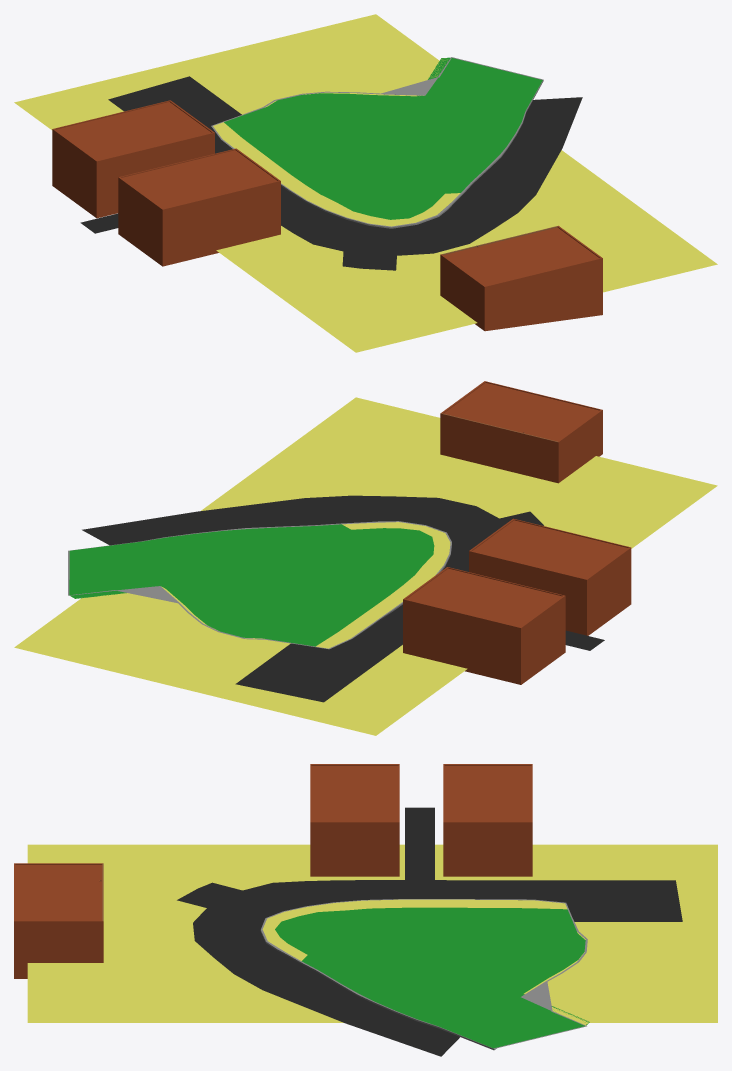
The model's file is map.glb.
The picture shows the model from 3 angles, top to bottom: view 1: azimuth 30°, elevation 25°; view 2: azimuth 150°, elevation 25°; view 3: azimuth 270°, elevation 25°; orthographic projection.
Parts seen in each view (by area): view 1: Floor, Cylinder, Cylinder.001, Cube.002, Cube, Cube.001; view 2: Floor, Cylinder, Cylinder.001, Cube.001, Cube, Cube.002; view 3: Floor, Cylinder, Cylinder.001, Cube.001, Cube.002, Cube.
Part boxes in pixels (x1=…): Floor: x1=14, y1=14, x2=717, y2=352; Cylinder: x1=211, y1=57, x2=543, y2=228; Cylinder.001: x1=80, y1=76, x2=582, y2=270; Cube.002: x1=118, y1=148, x2=280, y2=266; Cube: x1=440, y1=225, x2=602, y2=331; Cube.001: x1=52, y1=100, x2=214, y2=218; Floor: x1=14, y1=397, x2=717, y2=735; Cylinder: x1=68, y1=521, x2=451, y2=649; Cylinder.001: x1=82, y1=495, x2=604, y2=702; Cube.001: x1=403, y1=567, x2=565, y2=684; Cube: x1=440, y1=381, x2=602, y2=483; Cube.002: x1=469, y1=518, x2=631, y2=635; Floor: x1=27, y1=844, x2=717, y2=1022; Cylinder: x1=260, y1=899, x2=589, y2=1050; Cylinder.001: x1=177, y1=807, x2=682, y2=1056; Cube.001: x1=443, y1=764, x2=532, y2=876; Cube.002: x1=310, y1=764, x2=399, y2=876; Cube: x1=14, y1=863, x2=103, y2=978.
Bounding box in the file's own units: 147 × 19.28 × 175.
